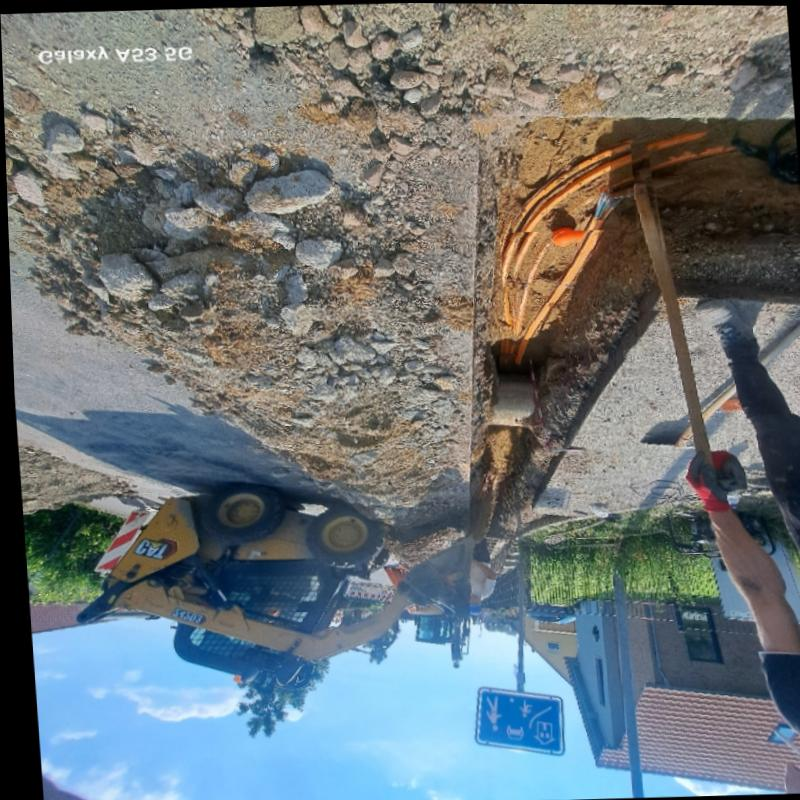Kugelmarker: (549, 225, 574, 245)
Orang-Speednetrohrchen: (500, 141, 641, 323), (512, 190, 622, 363), (511, 140, 629, 230)
